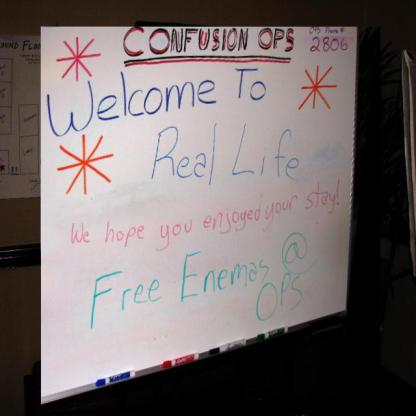Handwritten text: (64, 206, 278, 336), (38, 42, 276, 143), (59, 171, 344, 251), (148, 119, 310, 182), (120, 29, 299, 56), (240, 267, 314, 326), (304, 24, 346, 37)
Whiteboard: (37, 21, 362, 402)
